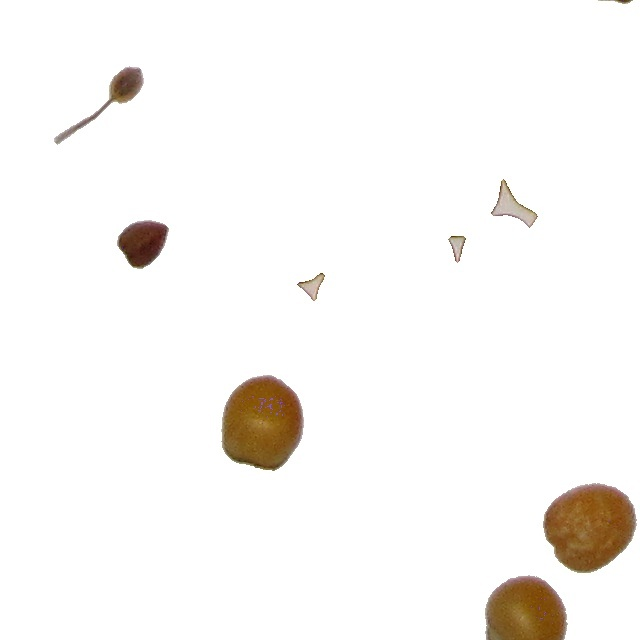buckwheat: (116, 219, 170, 270)
dill: (53, 65, 145, 146)
mais: (542, 482, 638, 574), (220, 374, 305, 472), (484, 574, 569, 640)
other: (490, 178, 539, 229), (296, 272, 326, 302), (447, 235, 467, 264)
